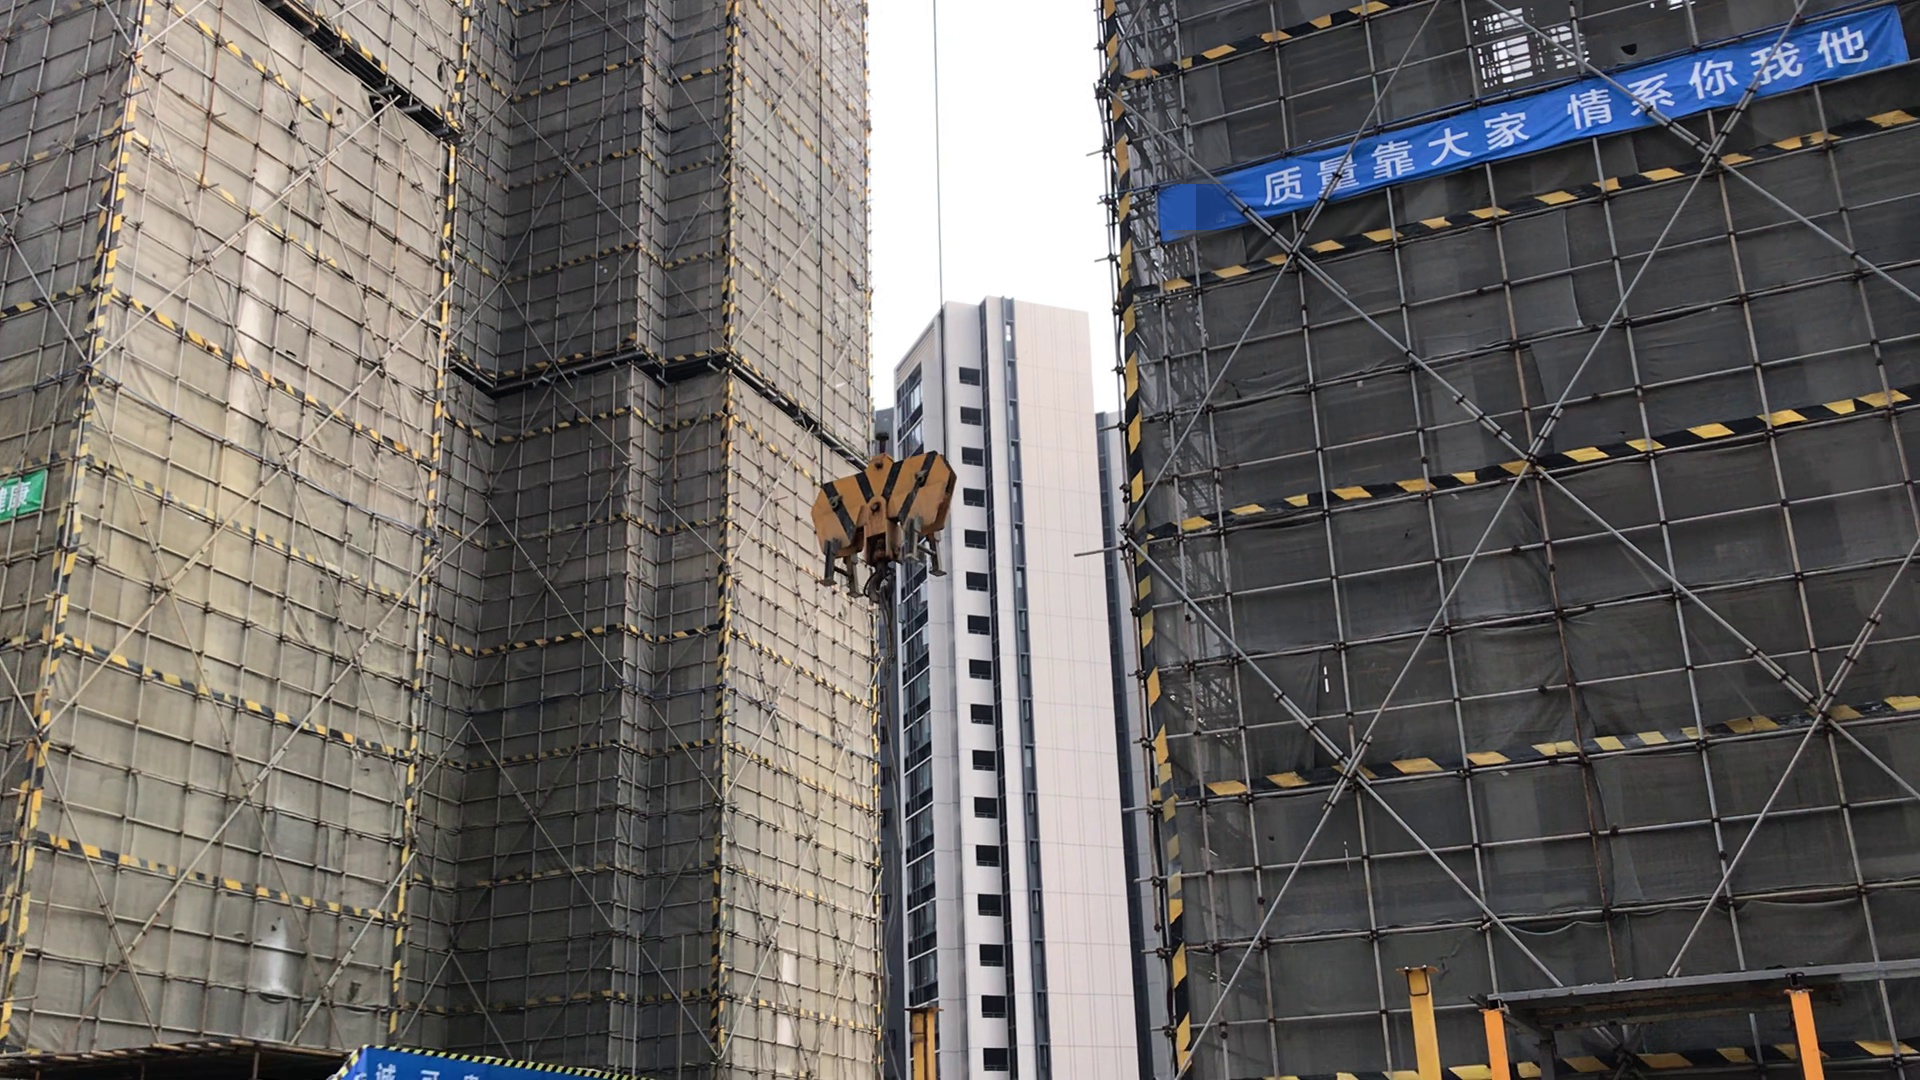hook: (808, 431, 956, 603)
slogan: (1159, 4, 1908, 249)
